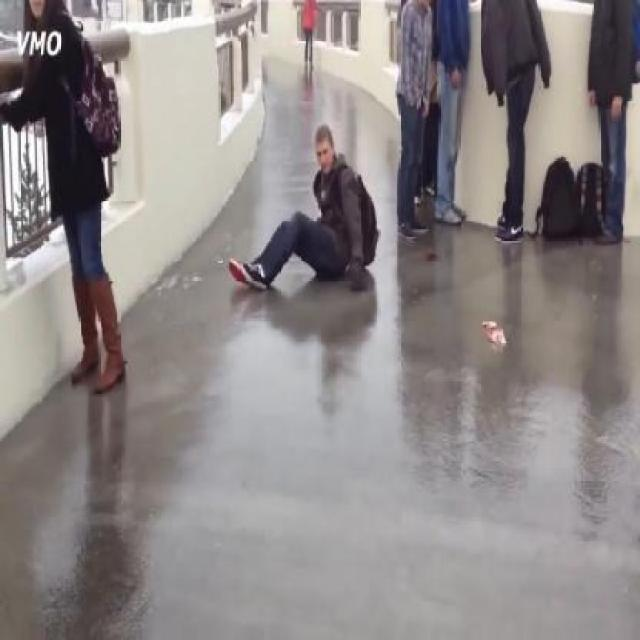fall: (228, 120, 378, 300)
